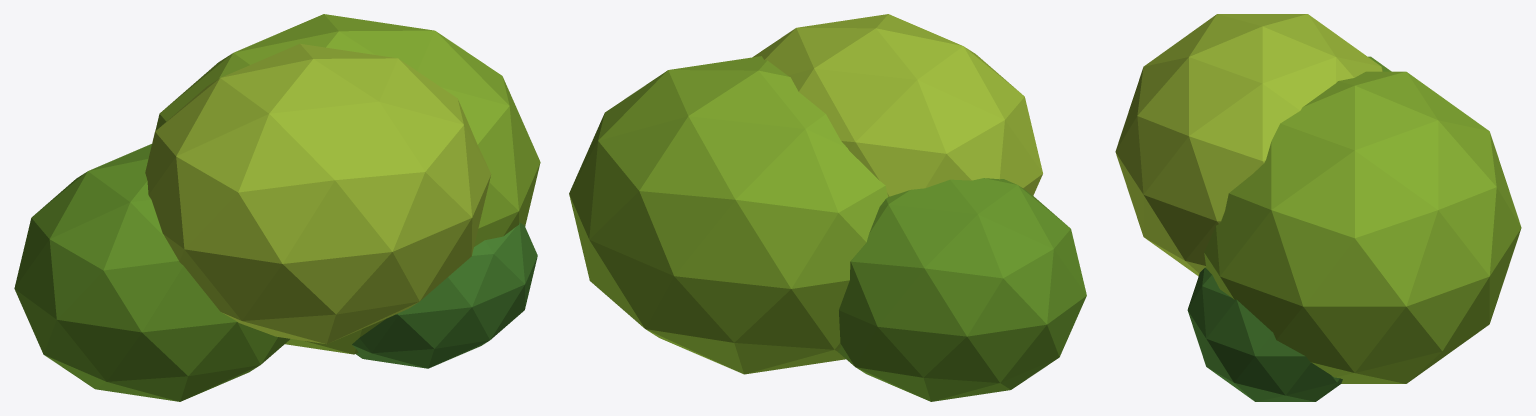
The model's file is Shrub_Cluster.glb.
3 views of the same model, side by side, from view 1: azimuth 30°, elevation 25°; view 2: azimuth 150°, elevation 25°; view 3: azimuth 270°, elevation 25° (orthographic). The views are drawn at different scales.
Parts seen in each view (by area): view 1: Shrub_Cluster__Foliage; view 2: Shrub_Cluster__Foliage; view 3: Shrub_Cluster__Foliage.
Part boxes in pixels (x1,y1,x2,y2): Shrub_Cluster__Foliage: (14,14,540,401); Shrub_Cluster__Foliage: (569,14,1086,401); Shrub_Cluster__Foliage: (1115,14,1521,401).
Size of the model in its own units: 3.19 by 2.1 by 2.46.
